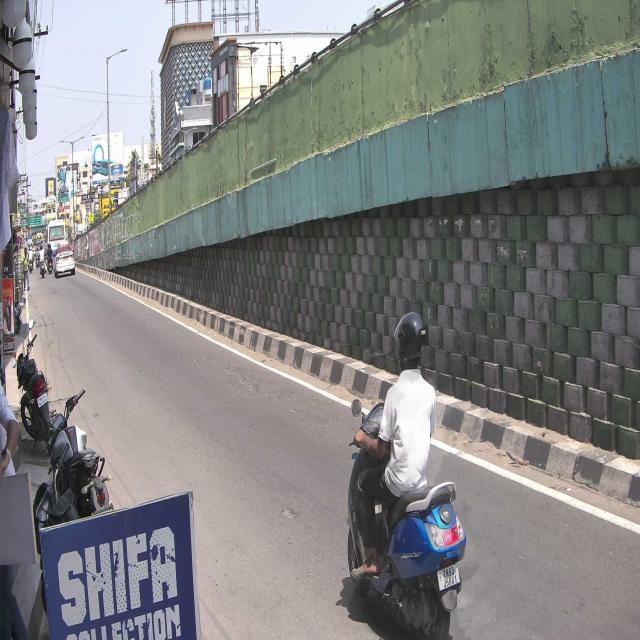single_rider: (346, 310, 466, 640)
